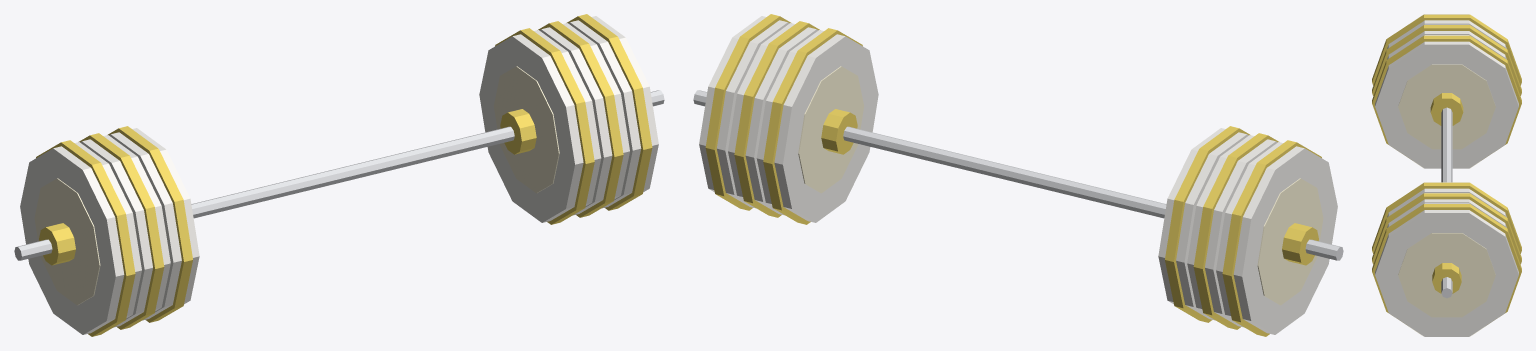
Rendered from Celestial_Barbell.fbx.
3 renders of one model, left to right at view 1: azimuth 30°, elevation 25°; view 2: azimuth 150°, elevation 25°; view 3: azimuth 270°, elevation 25°, orthographic. The views are drawn at different scales.
Visible parts, largest first — view 1: Celestial_Plates, Celestial_Rims, Celestial_Glow.001, Celestial_Bar, Celestial_Collars; view 2: Celestial_Plates, Celestial_Rims, Celestial_Glow.001, Celestial_Bar, Celestial_Collars; view 3: Celestial_Plates, Celestial_Glow.001, Celestial_Rims, Celestial_Collars, Celestial_Bar.
Boxes of the visible parts, <box> form: Celestial_Plates: <box>20,16,658,334</box>; Celestial_Rims: <box>36,14,652,336</box>; Celestial_Glow.001: <box>34,66,559,305</box>; Celestial_Bar: <box>14,90,664,260</box>; Celestial_Collars: <box>39,109,536,265</box>; Celestial_Plates: <box>699,16,1337,334</box>; Celestial_Rims: <box>705,14,1321,336</box>; Celestial_Glow.001: <box>798,66,1323,305</box>; Celestial_Bar: <box>693,90,1343,260</box>; Celestial_Collars: <box>821,109,1318,265</box>; Celestial_Plates: <box>1375,14,1518,336</box>; Celestial_Glow.001: <box>1398,64,1495,317</box>; Celestial_Rims: <box>1372,14,1521,312</box>; Celestial_Collars: <box>1430,93,1463,293</box>; Celestial_Bar: <box>1441,107,1452,298</box>.
Bounding box in the file's own units: 8.24 × 2.11 × 2.22.
